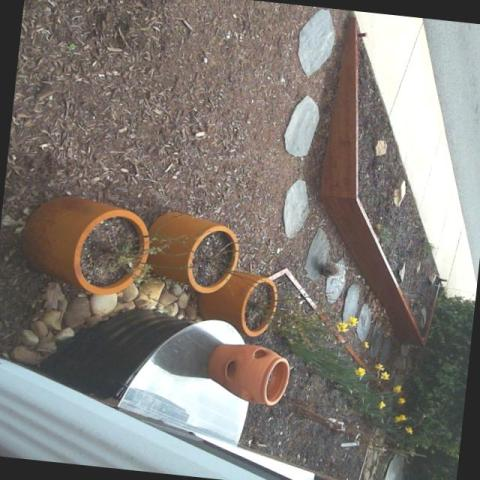small_animal: (320, 260, 344, 283)
